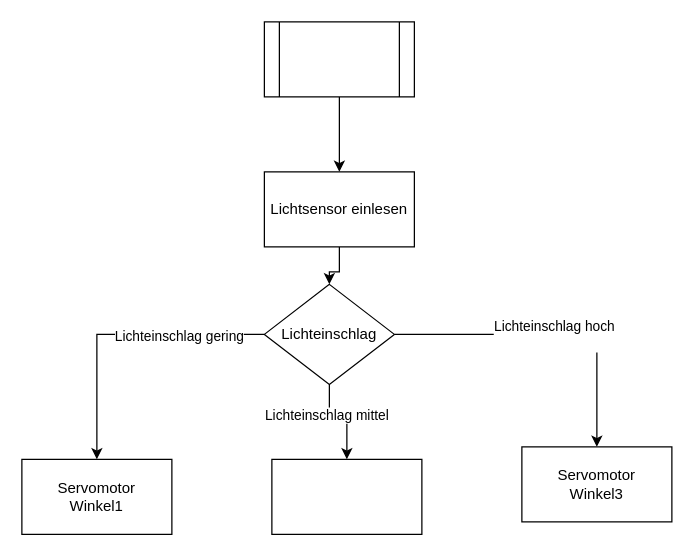
Some shapes in this 694 by 556 pixel diagram are drawn without their labels. Each missing label, with the box of its shape:
Automatisch: (263, 21, 414, 97)
Servomotor Winkel2: (271, 458, 422, 534)
